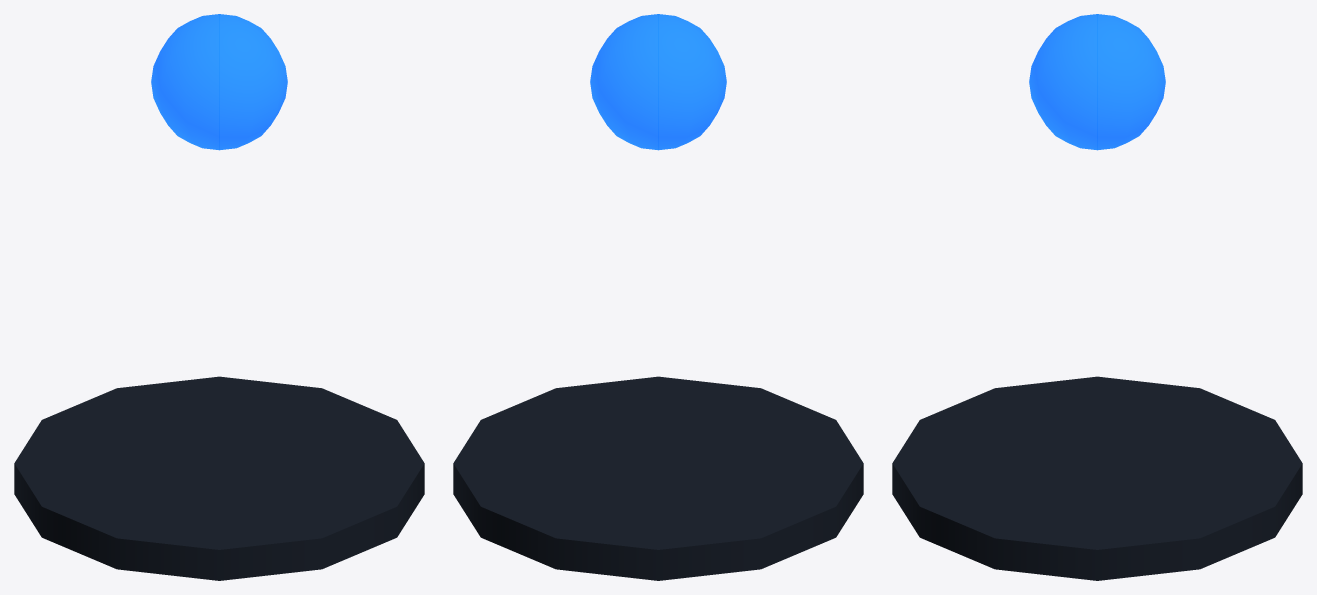
File: rocket-engineering.glb
The picture shows the model from 3 angles, left to right: view 1: azimuth 30°, elevation 25°; view 2: azimuth 150°, elevation 25°; view 3: azimuth 270°, elevation 25°; orthographic projection.
Parts seen in each view (by area): view 1: eng-floor, core; view 2: eng-floor, core; view 3: eng-floor, core.
Part boxes in pixels (left/top/right/bottom): eng-floor: left=14, top=376, right=424, bottom=580; core: left=151, top=14, right=287, bottom=150; eng-floor: left=453, top=376, right=863, bottom=580; core: left=590, top=14, right=726, bottom=150; eng-floor: left=892, top=376, right=1302, bottom=580; core: left=1029, top=14, right=1165, bottom=150.
Size of the model in its own units: 1.8 by 2.3 by 1.8.
